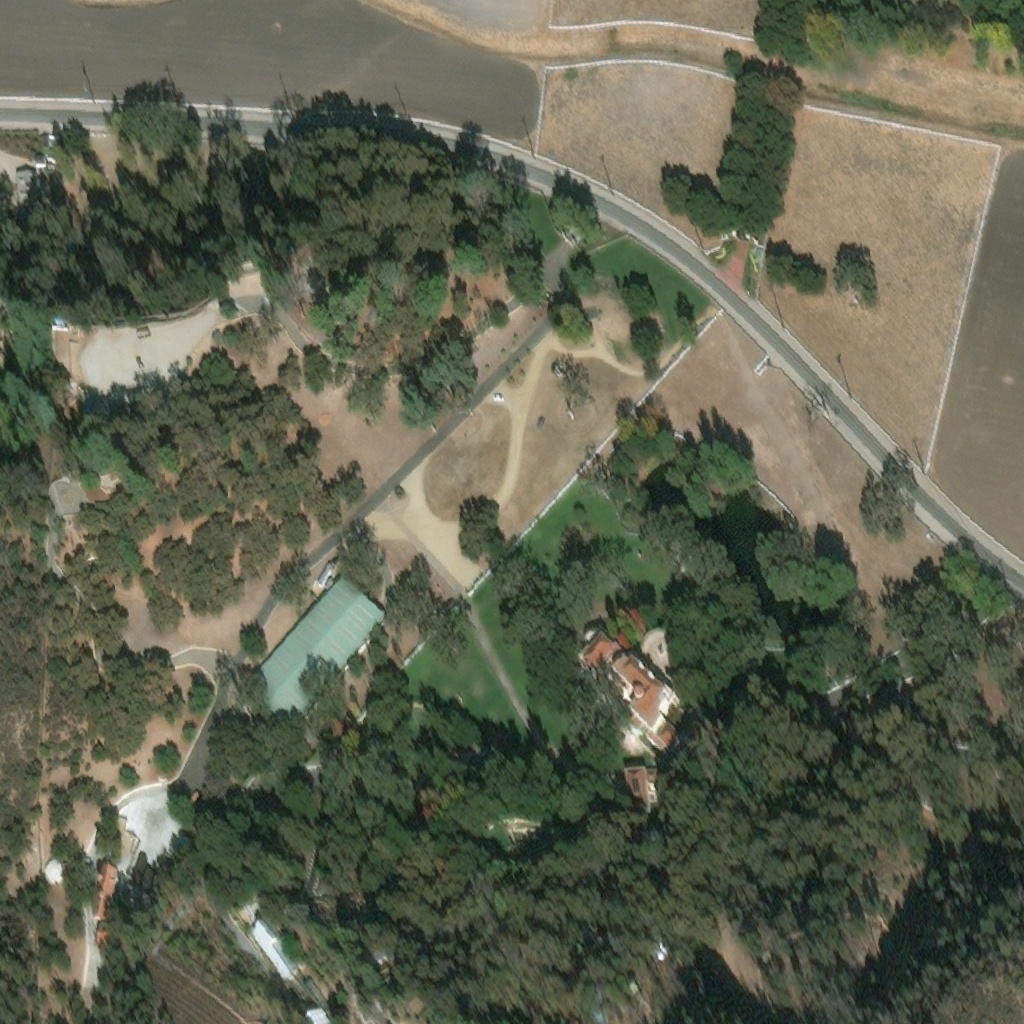0 no-damage: (243, 577, 389, 730), (594, 661, 710, 758), (251, 922, 300, 975), (580, 637, 628, 678), (620, 759, 658, 800), (89, 862, 117, 914), (129, 850, 156, 884), (14, 167, 35, 203), (302, 1003, 330, 1023), (93, 916, 110, 943), (42, 856, 61, 878), (410, 1004, 428, 1023), (61, 861, 70, 876)
